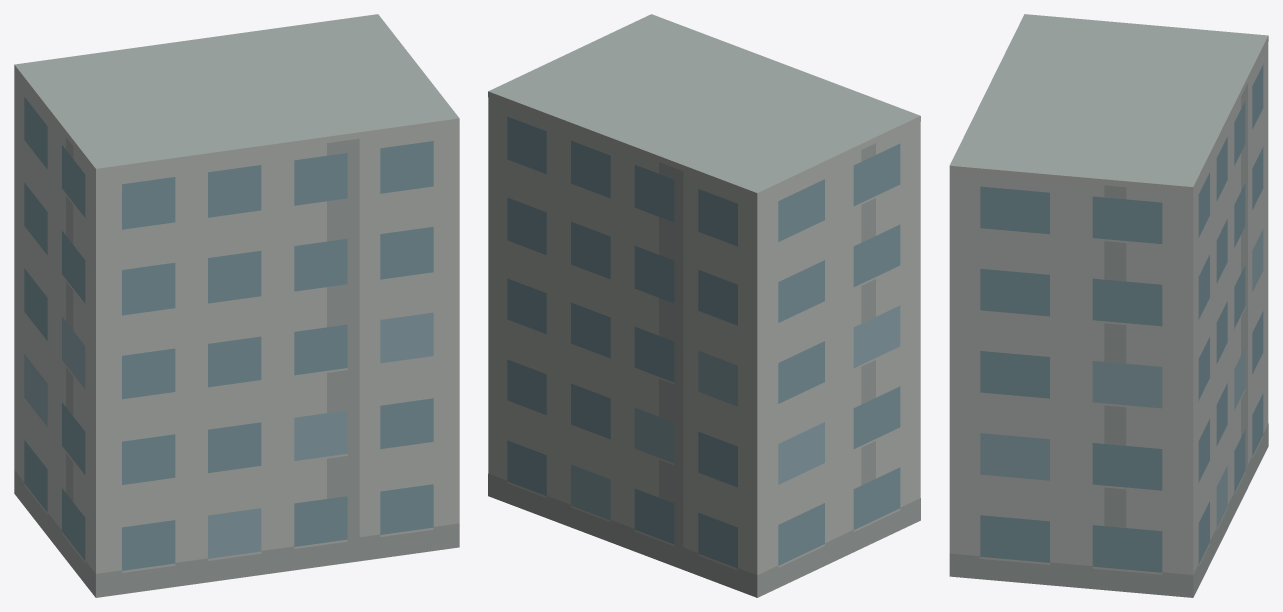
File: survey-upis-32825737.glb
The picture shows the model from 3 angles, left to right: view 1: azimuth 30°, elevation 25°; view 2: azimuth 150°, elevation 25°; view 3: azimuth 270°, elevation 25°; orthographic projection. The views are drawn at different scales.
Parts seen in each view (by area): view 1: survey-upis-32825737.tmp; view 2: survey-upis-32825737.tmp; view 3: survey-upis-32825737.tmp.
Part boxes in pixels (box(x1,y1,x2,y2)): survey-upis-32825737.tmp: box(14, 14, 459, 597); survey-upis-32825737.tmp: box(488, 14, 920, 597); survey-upis-32825737.tmp: box(949, 14, 1268, 597).
Size of the model in its own units: 14.83 by 16.4 by 11.55.
